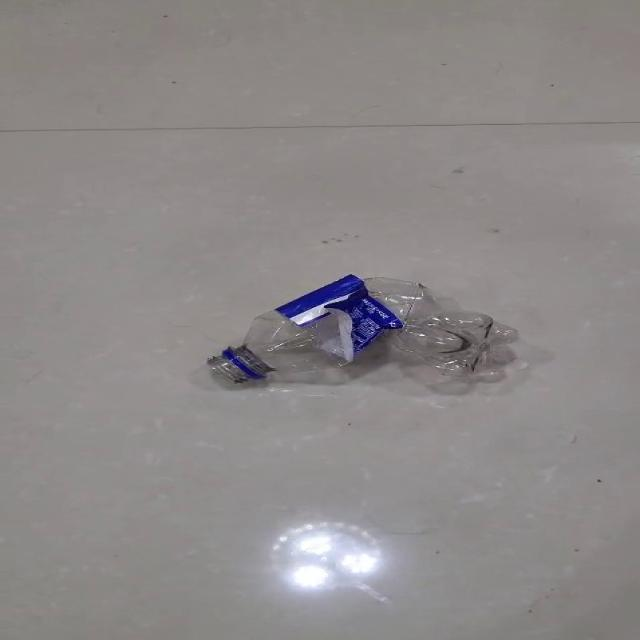plastic: (205, 272, 403, 384)
